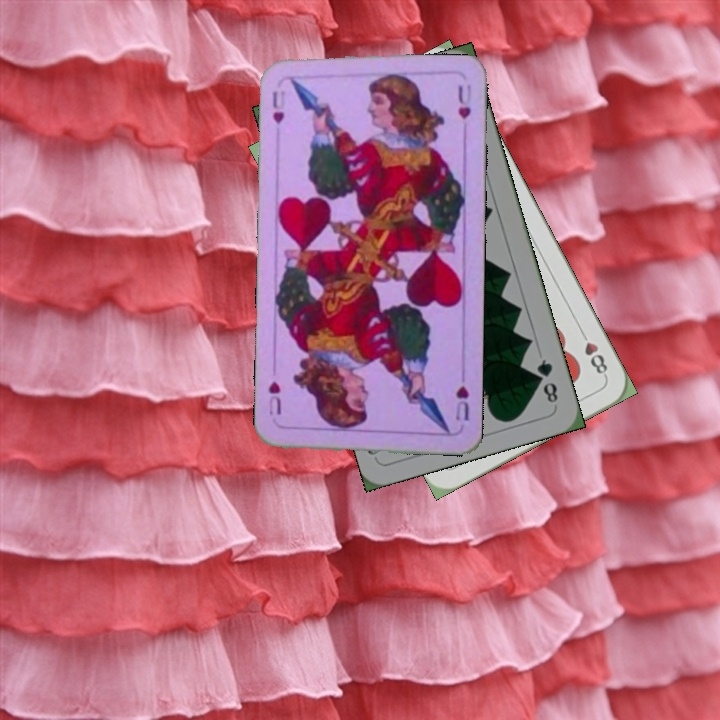G8: (532, 355, 561, 406)
H8: (575, 326, 611, 380)
HU: (452, 382, 472, 424), (268, 87, 286, 127)
